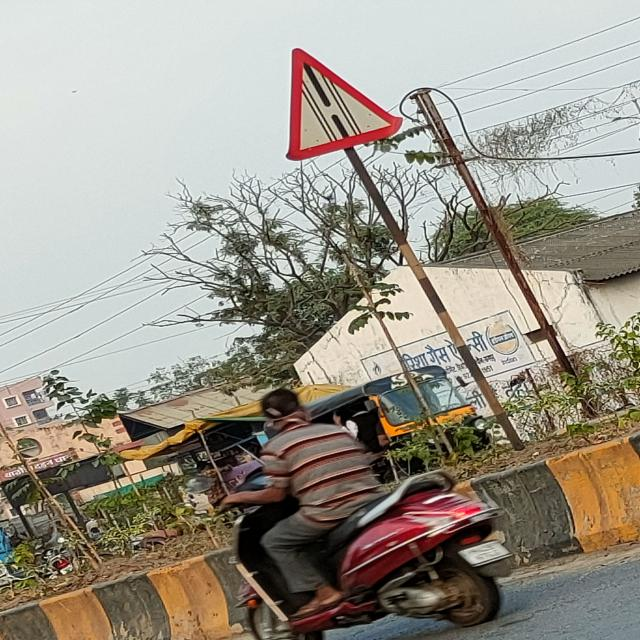ferry: (286, 46, 404, 160)
